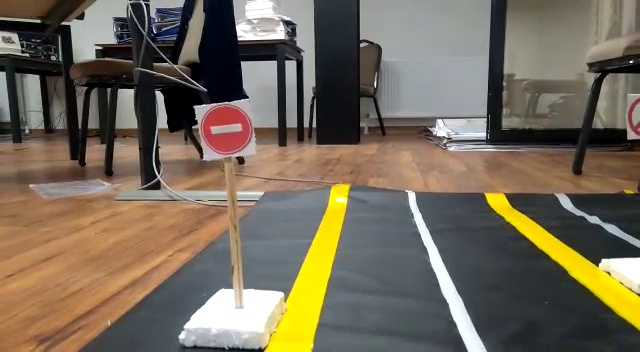girisi_olmayan_yol: (195, 105, 255, 157)
